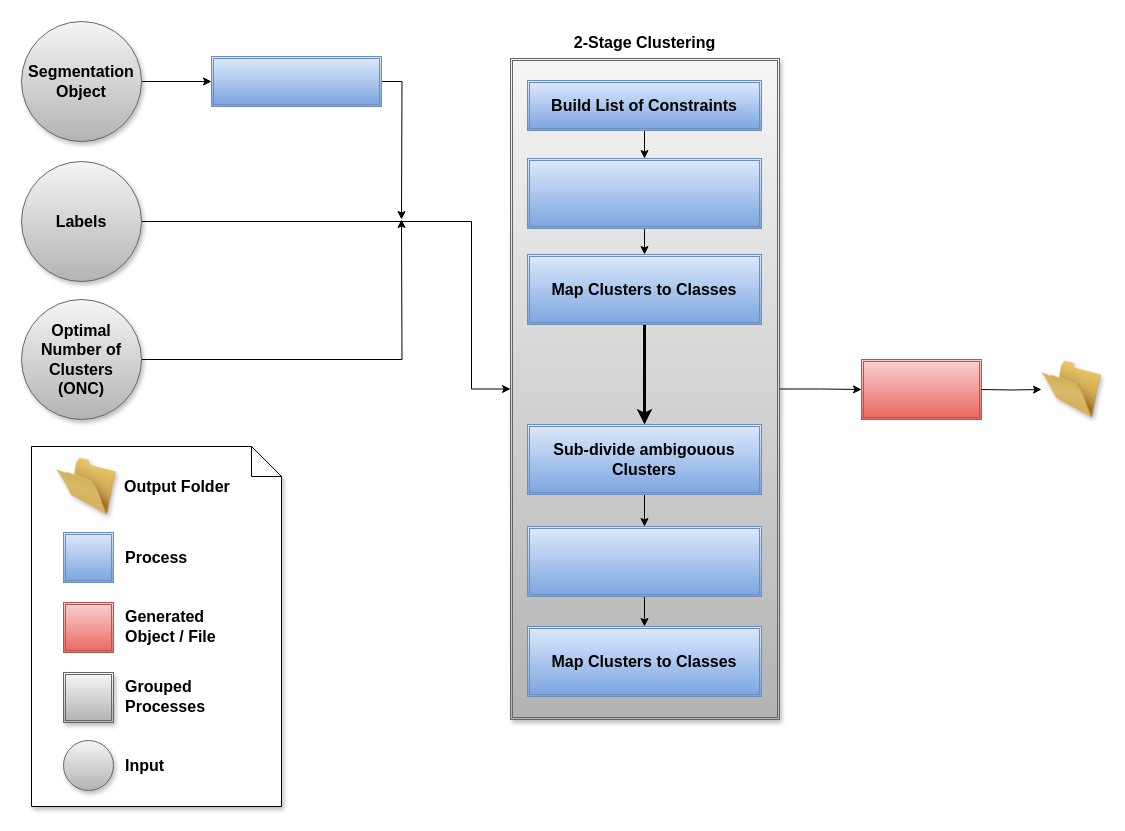
Some shapes in this 1125 by 831 pixel diagram are drawn without their labels. Each missing label, with the centre of its shape:
"Classification Object" belongs at point 921,389.
"Cluster into ONC using ''cannot-link'' and ''must-link'' constraints" belongs at point 644,561.
"Cluster into ONC using ''cannot-link'' constraints" belongs at point 644,193.
"Normalize Features" belongs at point 296,81.
